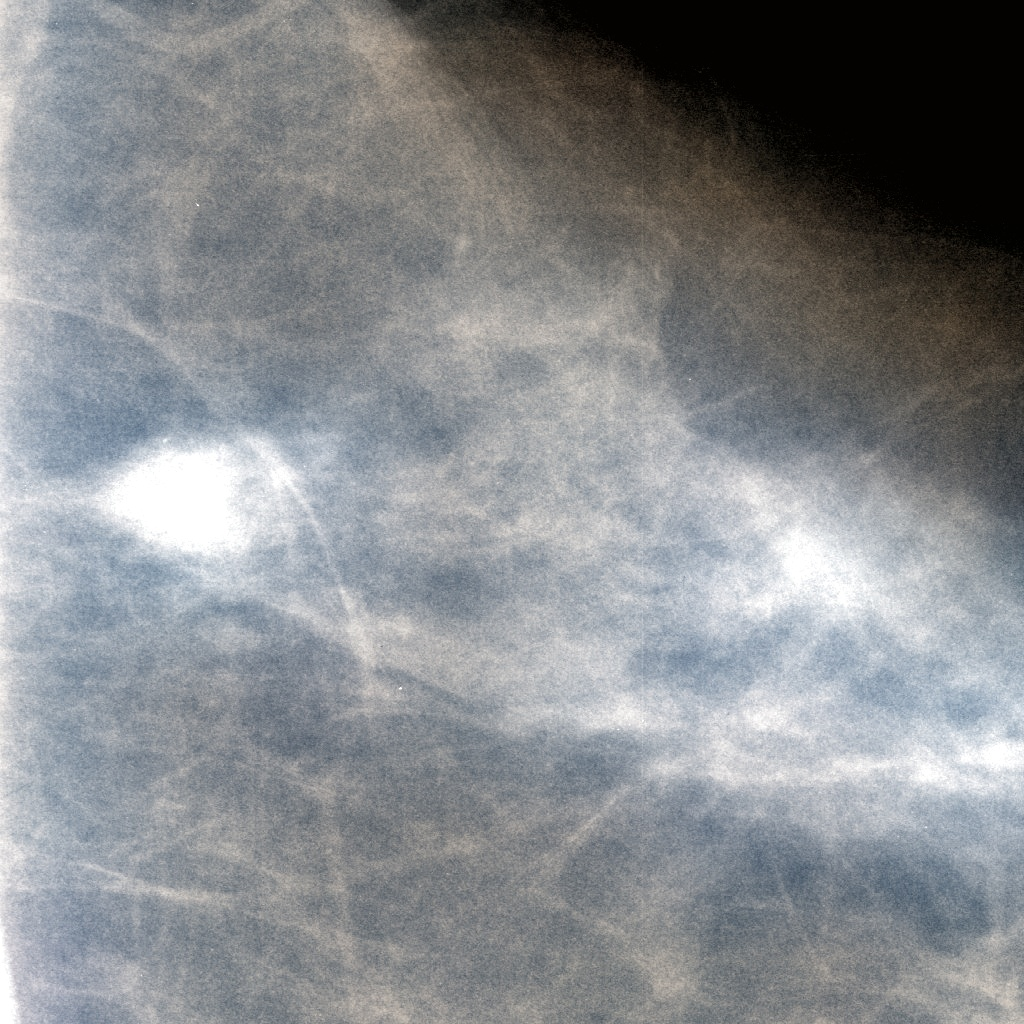tumor: (67, 400, 337, 624)
